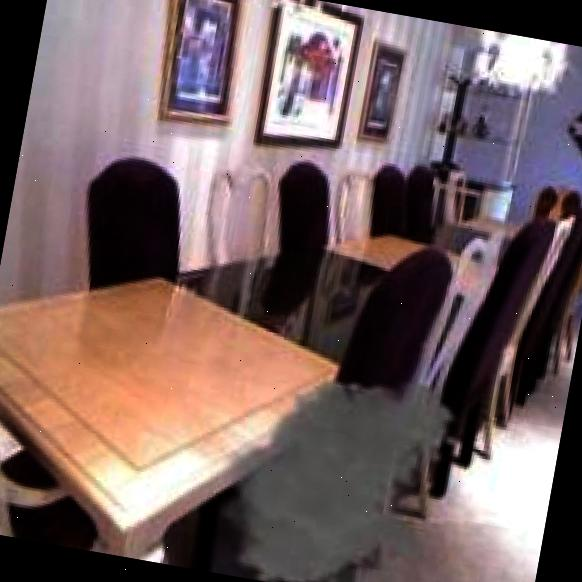smoke: (199, 349, 470, 582)
